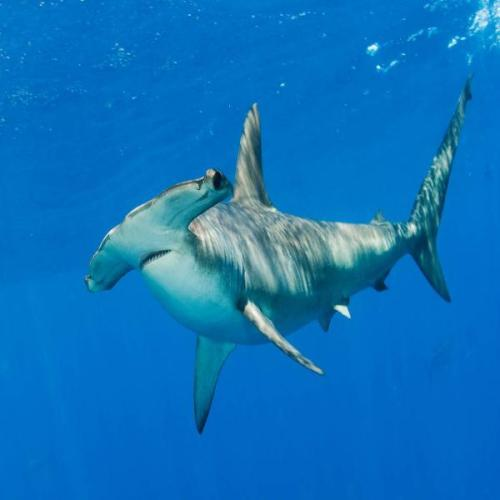shark-endangered: (85, 76, 474, 435)
